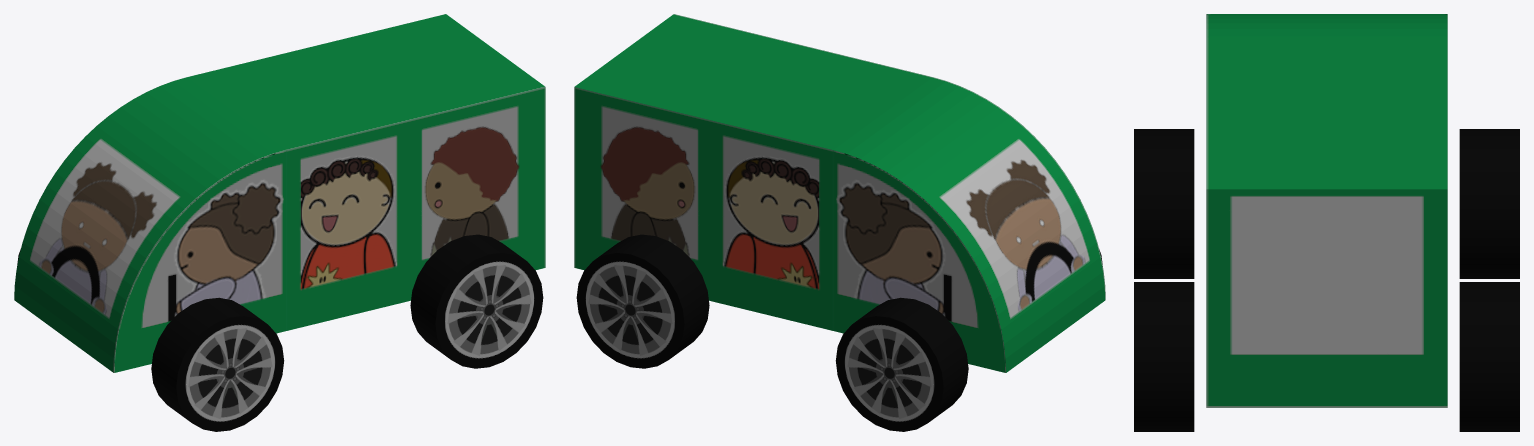
The model's file is car.glb.
3 renders of one model, left to right at view 1: azimuth 30°, elevation 25°; view 2: azimuth 150°, elevation 25°; view 3: azimuth 270°, elevation 25°, orthographic. The views are drawn at different scales.
Parts seen in each view (by area): view 1: car, wheelLB, wheelLF; view 2: car, wheelRB, wheelRF; view 3: car, wheelRB, wheelRF, wheelLB, wheelLF.
Boxes of the visible parts, x1=… form: car: x1=14, y1=14, x2=545, y2=372; wheelLB: x1=410, y1=234, x2=543, y2=368; wheelLF: x1=151, y1=297, x2=284, y2=431; car: x1=574, y1=14, x2=1105, y2=372; wheelRB: x1=576, y1=234, x2=709, y2=368; wheelRF: x1=835, y1=297, x2=968, y2=431; car: x1=1206, y1=14, x2=1447, y2=407; wheelRB: x1=1459, y1=282, x2=1519, y2=431; wheelRF: x1=1459, y1=129, x2=1519, y2=278; wheelLB: x1=1134, y1=282, x2=1194, y2=431; wheelLF: x1=1134, y1=129, x2=1194, y2=278.
Bounding box in the file's own units: 0.5 × 0.2625 × 0.32.
2 materials, 2 textured.
